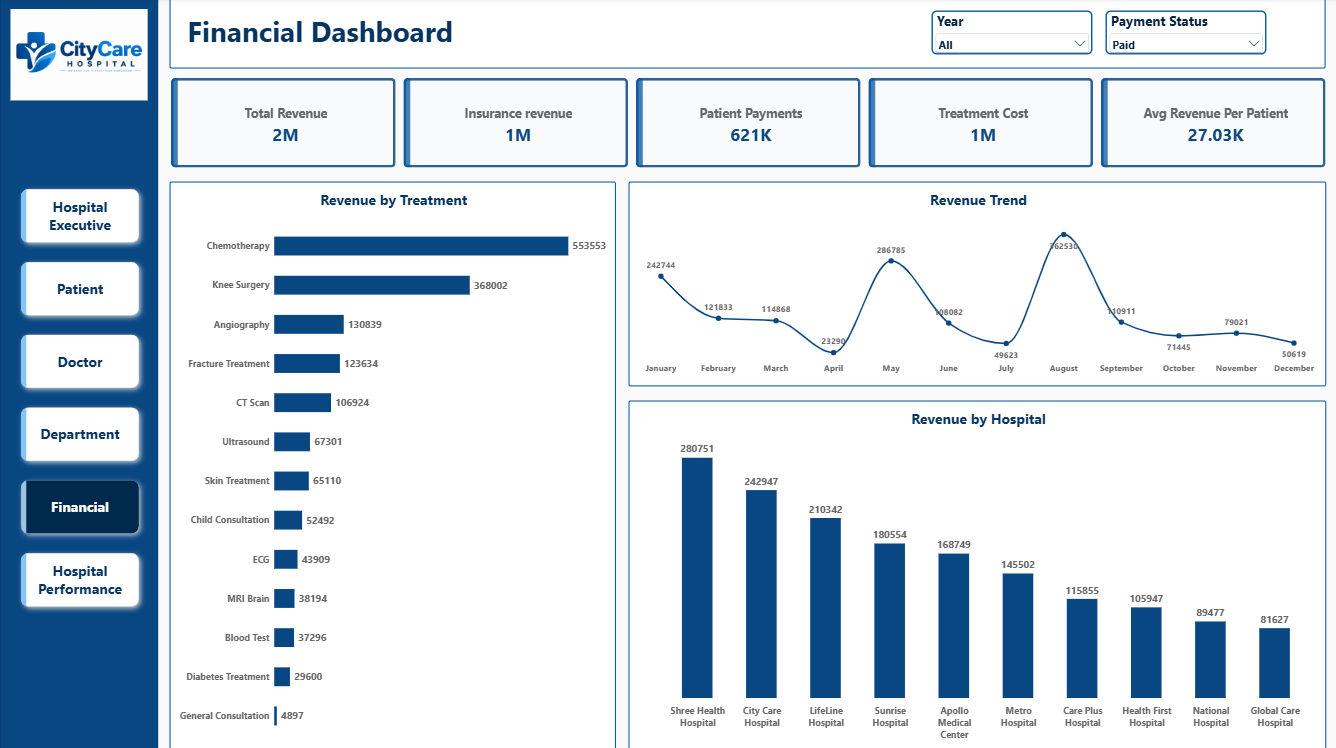

This screenshot's page, from the dashboard's own definition file:
{"tool":"powerbi","page":{"name":"Financial","canvas":[2560,1440],"ordinal":4},"visuals":[{"type":"shape","box":[324.5,0,2207.8,136.8],"z":0},{"type":"cardVisual","fields":{"Data":["Medical Transactions.Total Revenue","Insurance.Insurance revenue","Medical Transactions.Patient Payments","Medical Transactions.Treatment Cost","Medical Transactions.Avg Revenue Per Patient"]},"box":[327.1,155.4,2205.4,171.6],"z":1000},{"type":"lineChart","title":"Revenue Trend","fields":{"Y":["Medical Transactions.Total Revenue"],"Category":["Medical Transactions.AdmissionDate.Variation.Date Hierarchy.Year","Medical Transactions.AdmissionDate.Variation.Date Hierarchy.Quarter","Medical Transactions.AdmissionDate.Variation.Date Hierarchy.Month","Medical Transactions.AdmissionDate.Variation.Date Hierarchy.Day"]},"box":[1199.3,353.1,1332.9,391.3],"z":2000},{"type":"clusteredBarChart","title":"Revenue by Treatment","fields":{"Category":["Treatments.TreatmentName"],"Y":["Medical Transactions.Total Revenue"]},"box":[324.5,353.1,852.6,1088],"z":3000},{"type":"clusteredColumnChart","title":"Revenue by Hospital","fields":{"Category":["Hospitals.HospitalName"],"Y":["Medical Transactions.Total Revenue"]},"box":[1199.3,769.9,1332.9,671.2],"z":4000},{"type":"textbox","box":[359.5,29.1,816.1,84.2],"z":5000},{"type":"slicer","fields":{"Values":["Medical Transactions.AdmissionDate.Variation.Date Hierarchy.Year"]},"box":[1778.3,25.4,307.7,84.2],"z":6000},{"type":"slicer","fields":{"Values":["Medical Transactions.PaymentStatus"]},"box":[2111.5,25.9,307.7,84.2],"z":7000},{"type":"shape","box":[0,0,302.2,1441.1],"z":8000},{"type":"pageNavigator","box":[25.4,353.1,254.5,830.3],"z":9000},{"type":"image","box":[0,22.3,302.2,175],"z":10000}]}

Visuals, with their boxes on the page's 2560x1440 design canvas (x1, y1, x2, y2). These are canvas units, not pixel positions in the 1336x748 screenshot, which may show the page scaled, cropped or inside an application window:
shape: 324,0,2532,137
cardVisual - Medical Transactions.Total Revenue x Insurance.Insurance revenue: 327,155,2532,327
"Revenue Trend" lineChart: 1199,353,2532,744
"Revenue by Treatment" clusteredBarChart: 324,353,1177,1441
"Revenue by Hospital" clusteredColumnChart: 1199,770,2532,1441
textbox: 360,29,1176,113
slicer - Medical Transactions.AdmissionDate.Variation.Date Hierarchy.Year: 1778,25,2086,110
slicer - Medical Transactions.PaymentStatus: 2112,26,2419,110
shape: 0,0,302,1441
pageNavigator: 25,353,280,1183
image: 0,22,302,197
